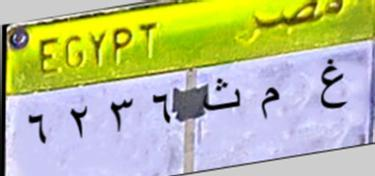2: (65, 102, 92, 142)
3: (108, 96, 135, 133)
6: (146, 88, 175, 127), (25, 111, 52, 150)
ghayn: (316, 54, 350, 114)
meem: (255, 78, 282, 123)
thaa: (200, 72, 244, 118)
